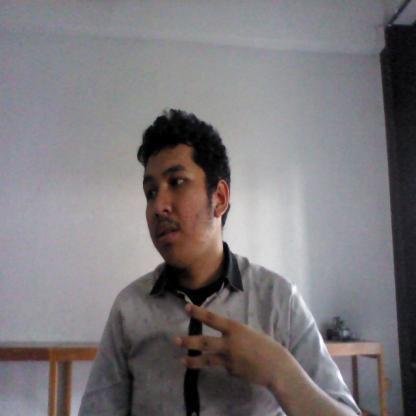E: (172, 300, 278, 386)
